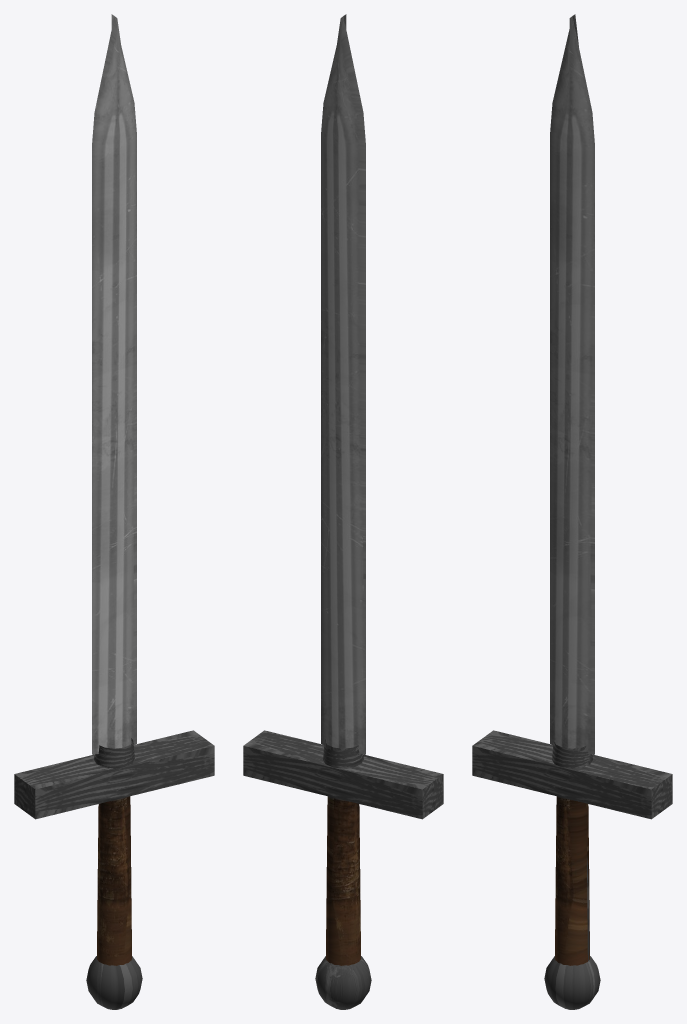
File: airblade_sword.glb
3 views of the same model, side by side, from view 1: azimuth 30°, elevation 25°; view 2: azimuth 150°, elevation 25°; view 3: azimuth 330°, elevation 25° (orthographic).
Visible parts, largest first — view 1: airblade_sword; view 2: airblade_sword; view 3: airblade_sword.
Part boxes in pixels (left/top/right/bottom): airblade_sword: left=14, top=14, right=214, bottom=1009; airblade_sword: left=243, top=14, right=443, bottom=1009; airblade_sword: left=472, top=14, right=672, bottom=1009.
Size of the model in its own units: 0.22 by 1.16 by 0.0585.
Materials: 2 (2 with a texture image).
